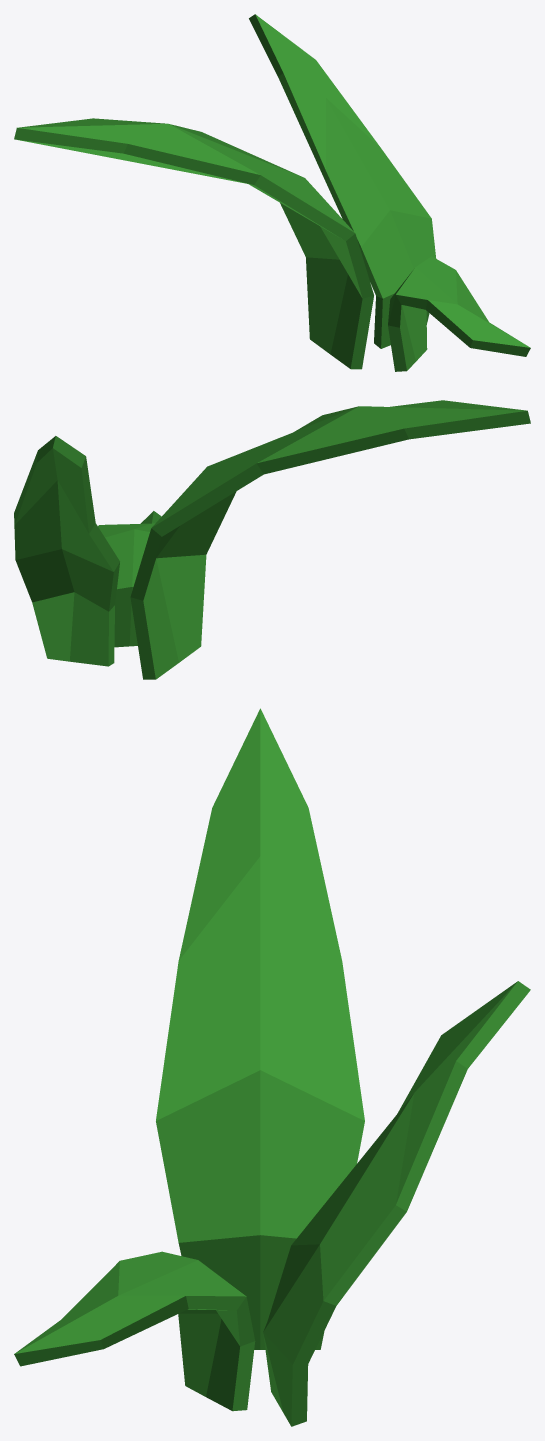
File: grass_1.glb
3 views of the same model, one above another, from view 1: azimuth 30°, elevation 25°; view 2: azimuth 150°, elevation 25°; view 3: azimuth 270°, elevation 25° (orthographic). The views are drawn at different scales.
Parts seen in each view (by area): view 1: Plane.024; view 2: Plane.024; view 3: Plane.024.
Part boxes in pixels (left/top/right/bottom): Plane.024: left=14, top=14, right=530, bottom=371; Plane.024: left=14, top=400, right=530, bottom=679; Plane.024: left=14, top=708, right=530, bottom=1426.
Size of the model in its own units: 0.4097 by 0.279 by 0.3005.
